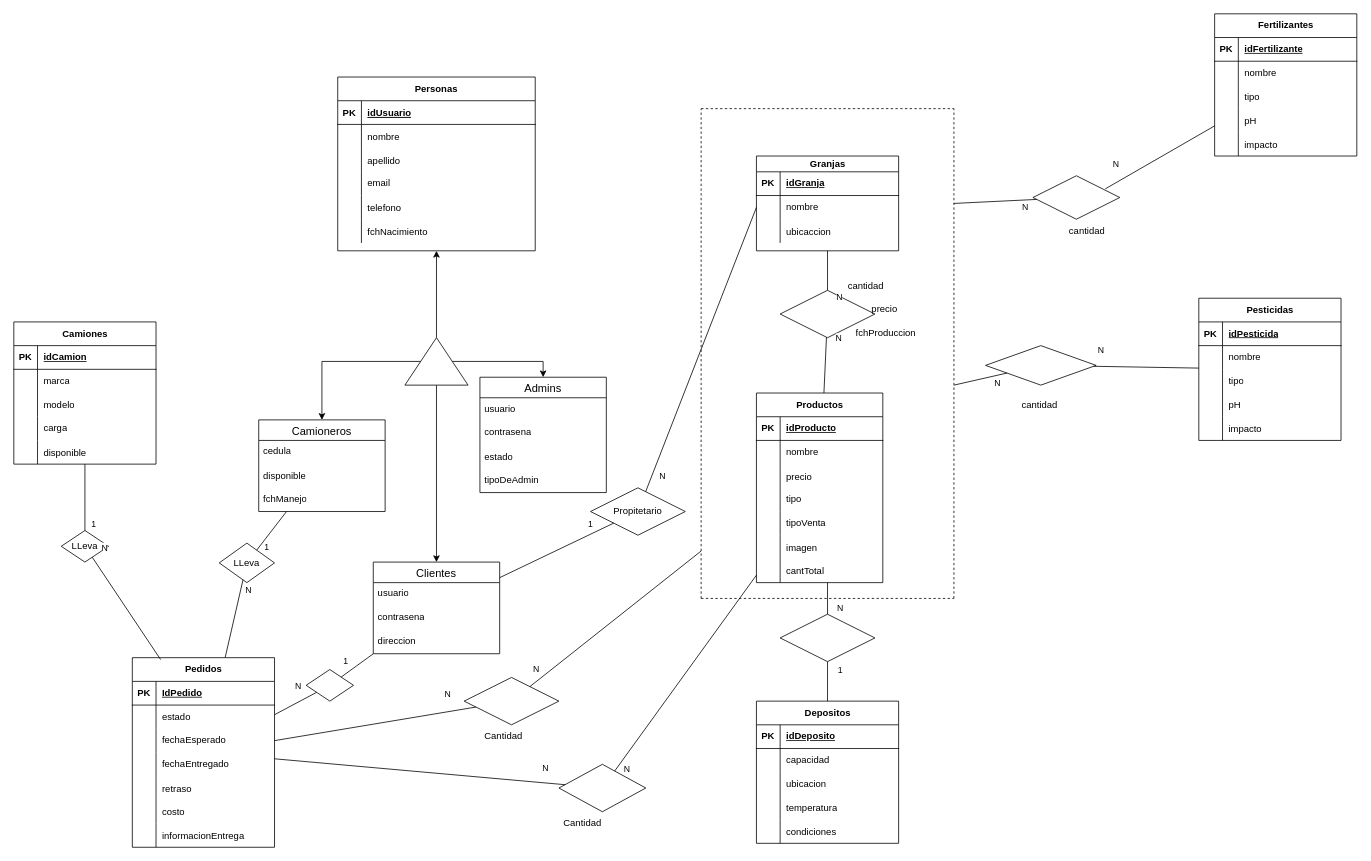
This 1371x861 diagram has some shape labels left out. The centre of each missing label's shape, as x and y in pixels:
Lote_Productos: the point at 511,701
Lotes: the point at 827,314
Lotes_Fertis: the point at 1076,197
Lotes_Pestis: the point at 1040,365
Pedidos_Prod: the point at 602,788
Realiza: the point at 329,685
Ubica: the point at 827,637
